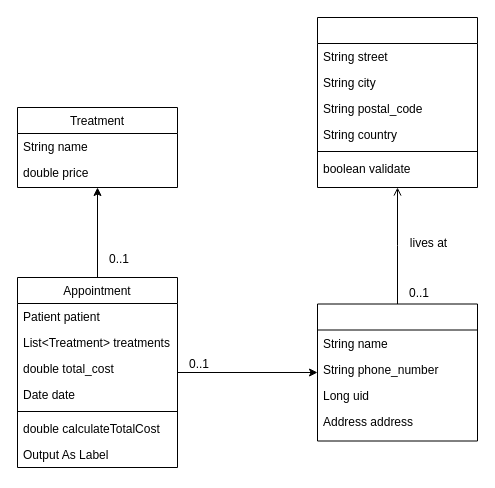
Some shapes in this 495 by 488 pixel diagram are drawn without their labels. The box of each missing label's shape, as (x1, y1, x2, y2) in pixels:
Address: (316, 16, 478, 188)
Patient: (316, 303, 478, 441)
